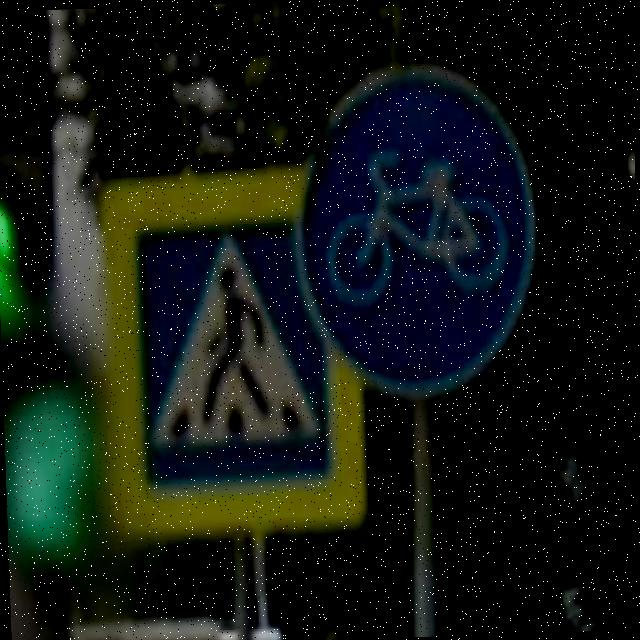Przejscie dla pieszych: (95, 159, 374, 546)
